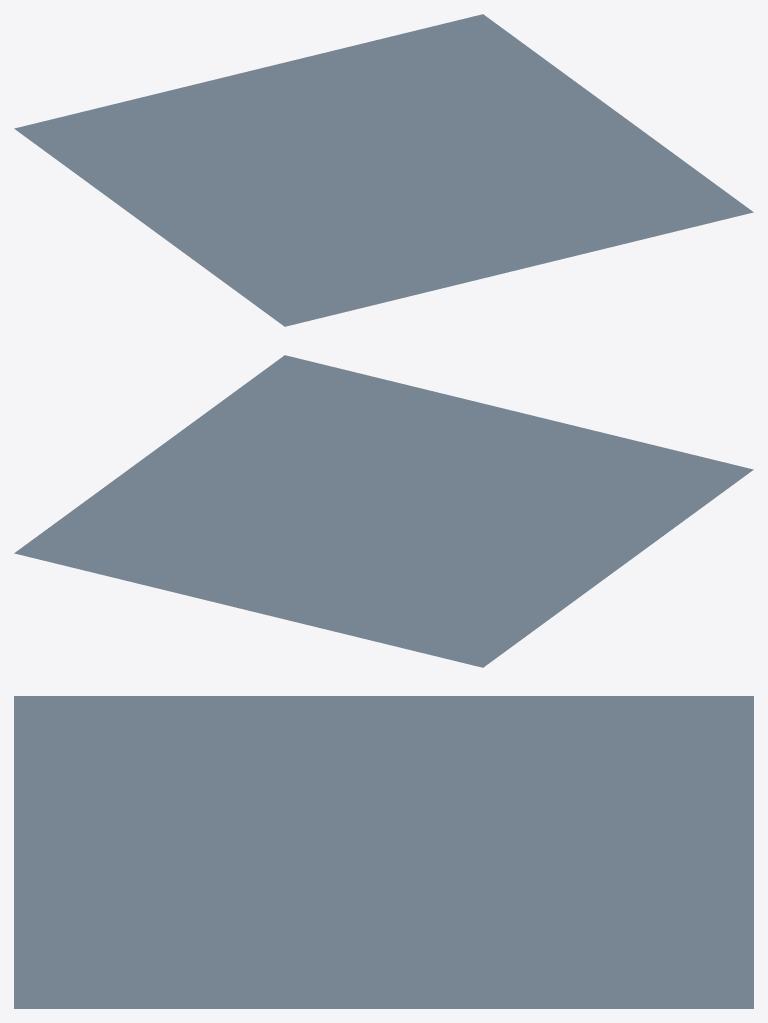
The model's file is Floor #1026181.fbx.
The picture shows the model from 3 angles, top to bottom: view 1: azimuth 30°, elevation 25°; view 2: azimuth 150°, elevation 25°; view 3: azimuth 270°, elevation 25°; orthographic projection. The views are drawn at different scales.
Visible parts, largest first — view 1: Floor; view 2: Floor; view 3: Floor.
Part boxes in pixels (box(x1,y1,x2,y2)): Floor: box(14, 14, 753, 326); Floor: box(14, 355, 753, 667); Floor: box(14, 696, 753, 1008).
Size of the model in its own units: 2200 by 9.62e-05 by 2200.
